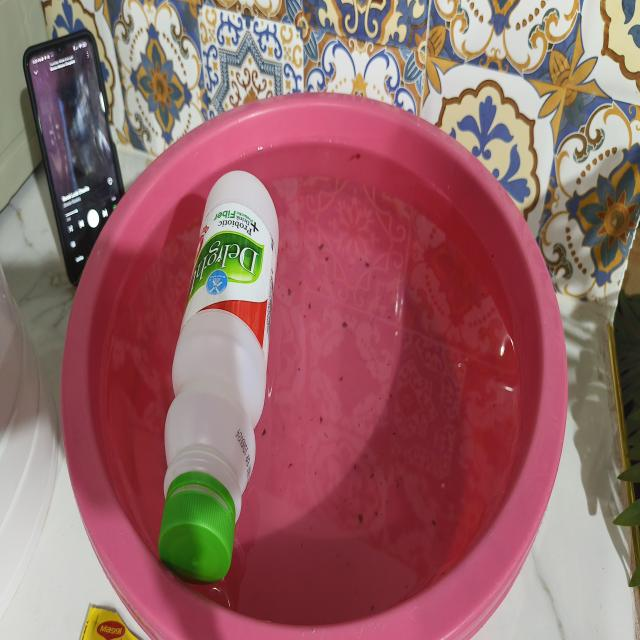Plastic Bottle: (158, 171, 279, 584)
